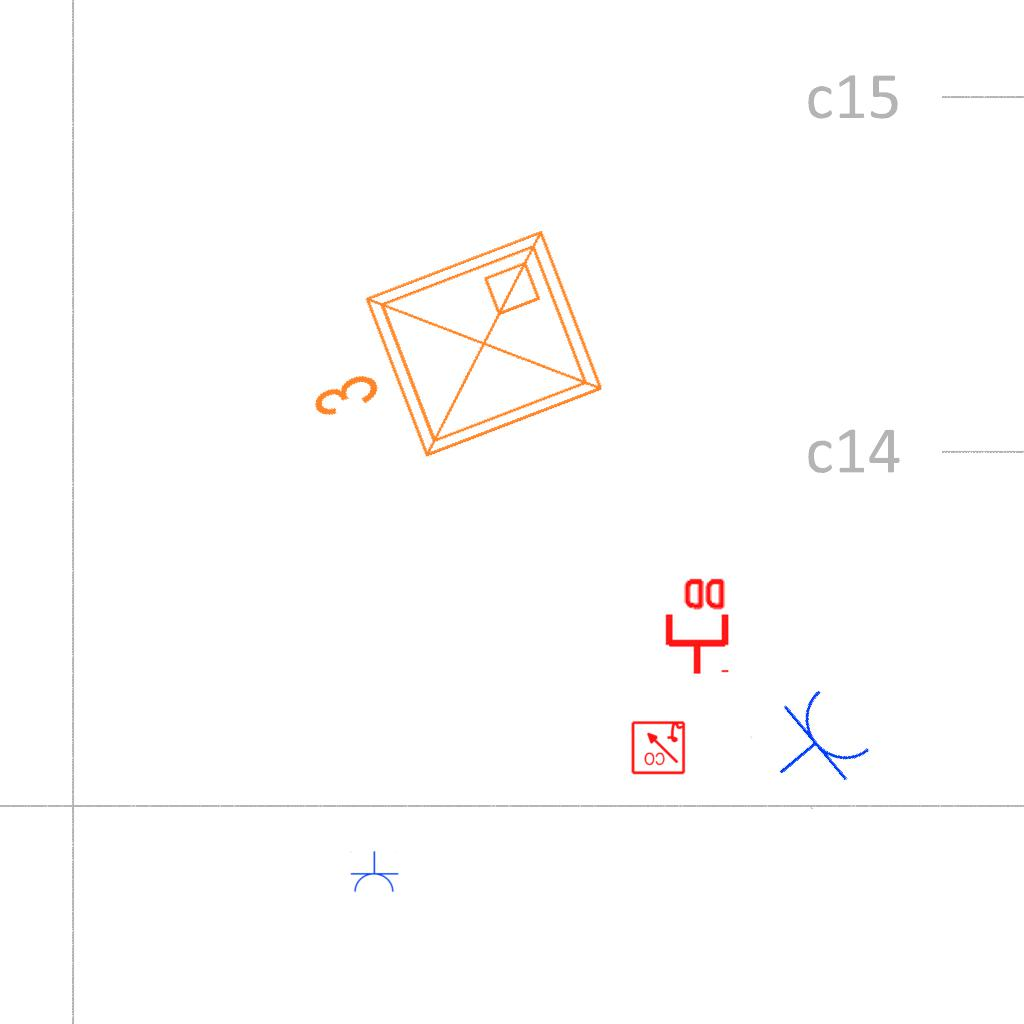Datenanschluss_zweifach: (661, 574, 730, 677)
Einbaudownlights_LED_Konferenzraeume: (269, 211, 625, 513)
ROA_Rauchmelder_optisch_mit_Signalgeber_(Sockelsirene): (630, 719, 686, 775)
Schukosteckdose_einfach: (748, 679, 880, 812), (349, 851, 399, 894)
